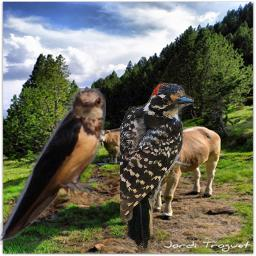Swallow: (0, 88, 106, 245)
Woodpecker: (120, 81, 194, 253)
